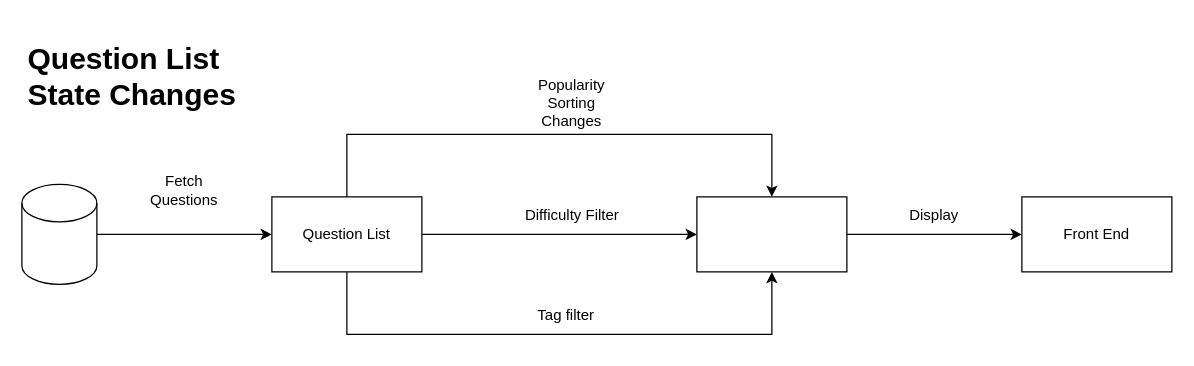
The diagram is 1194 pixels wide and 366 high, and some of its shapes have lost their labels. Here are the shapes that lost their labels. From the top down, the centre of each, then its label:
At point (59, 233): "DB".
At point (771, 234): "New Question List state".
